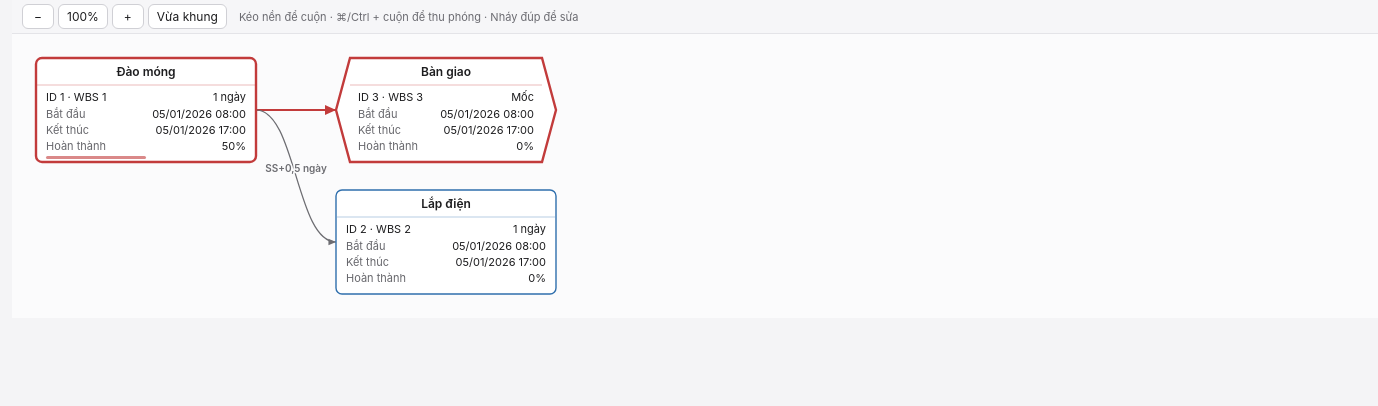
Test: NetworkDiagram › zooms with the toolbar buttons
The width and height of the screenshot is (1378, 406).
Click the button "+": [128, 16] box left=112, top=4, right=144, bottom=29
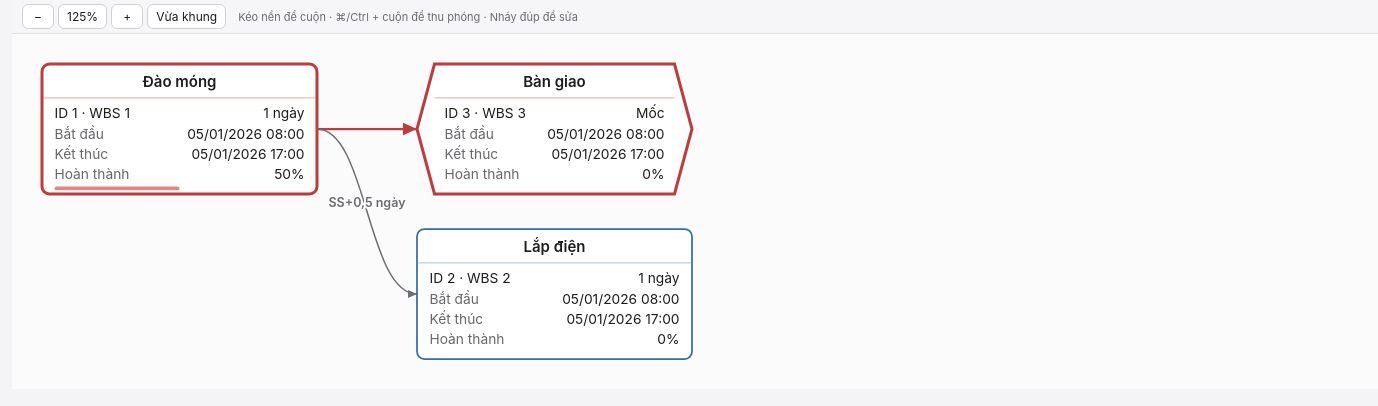
Check: the button "125%" is shown, box left=58, top=4, right=107, bottom=29
